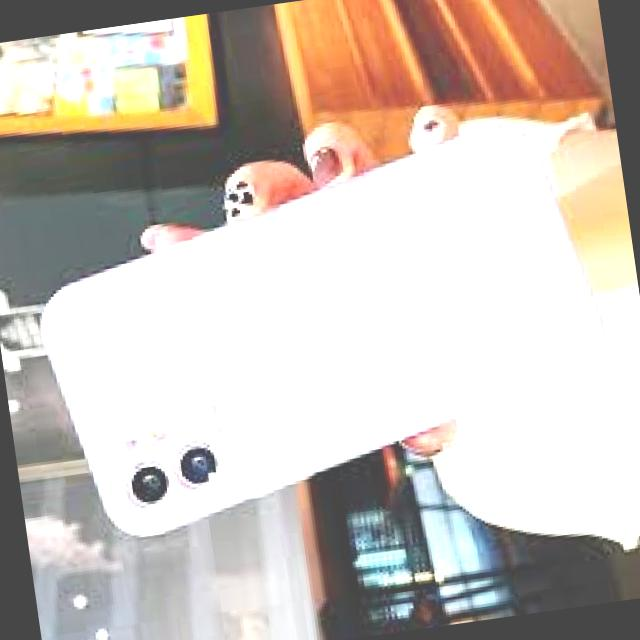lens_back: (124, 456, 174, 510), (174, 440, 222, 489)
phone: (16, 106, 629, 550)
